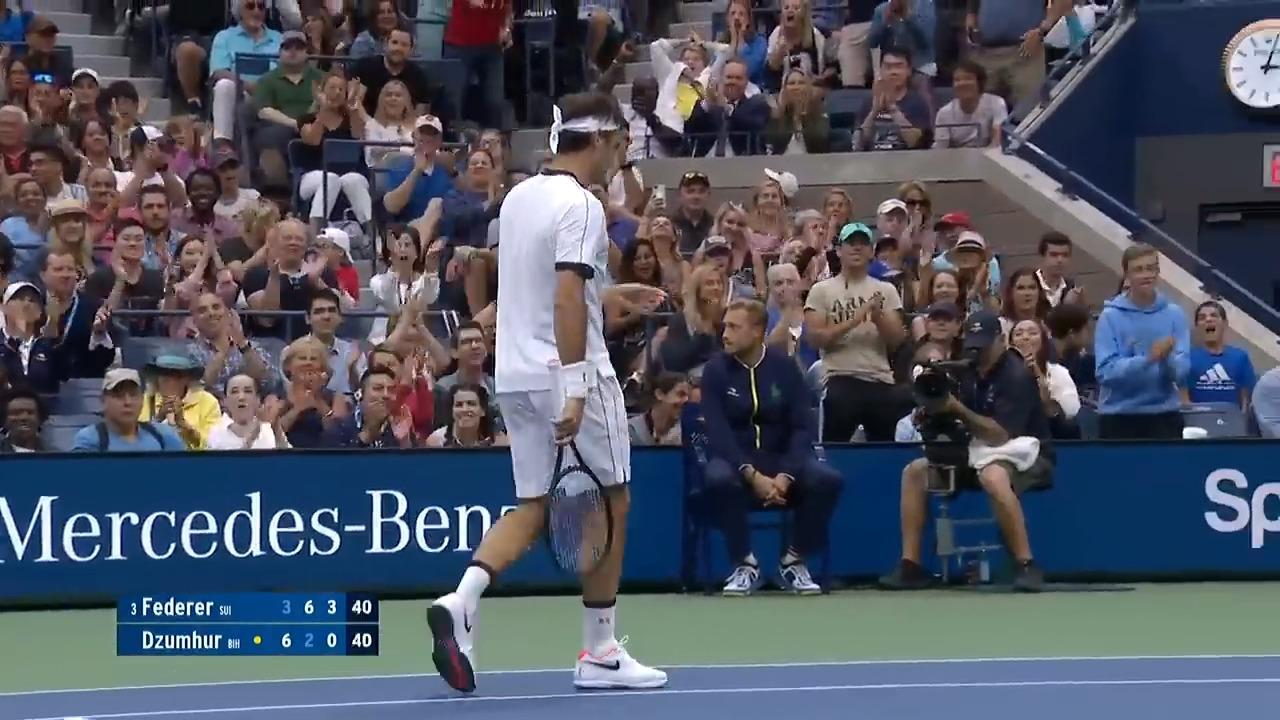tennis racket: (548, 439, 614, 574), (549, 360, 565, 419)
